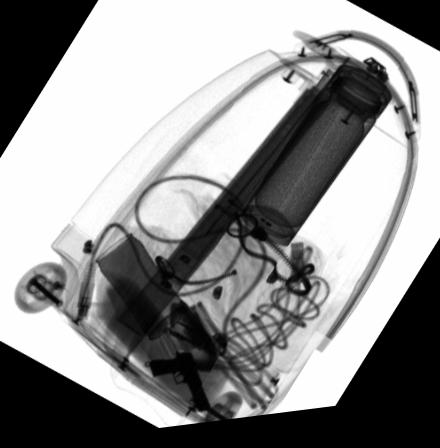Gun: (146, 354, 208, 419)
